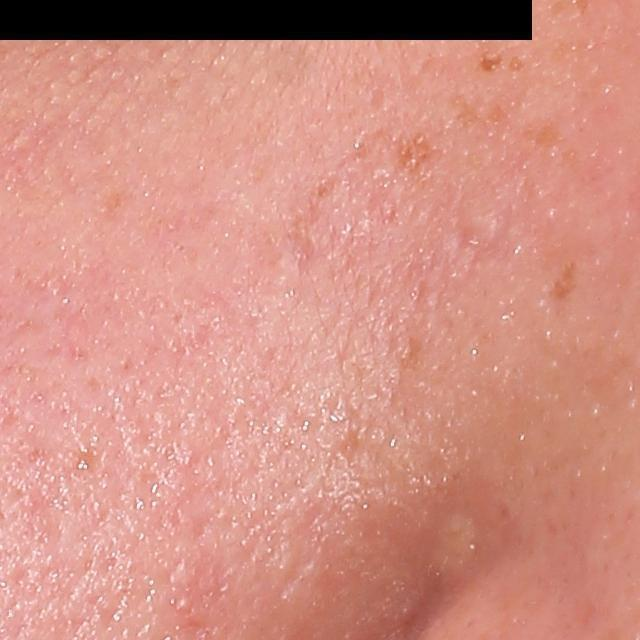atrophic_scar: (452, 214, 509, 266)
hypertrophic_scar: (422, 499, 489, 587)
melasma: (292, 123, 445, 237), (447, 90, 513, 129), (542, 255, 586, 301), (520, 111, 567, 153), (477, 52, 505, 75)
